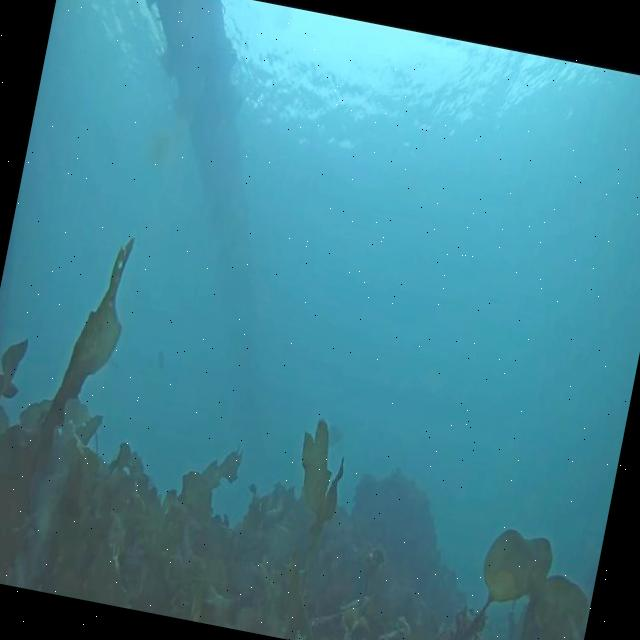fish: (150, 346, 170, 388)
